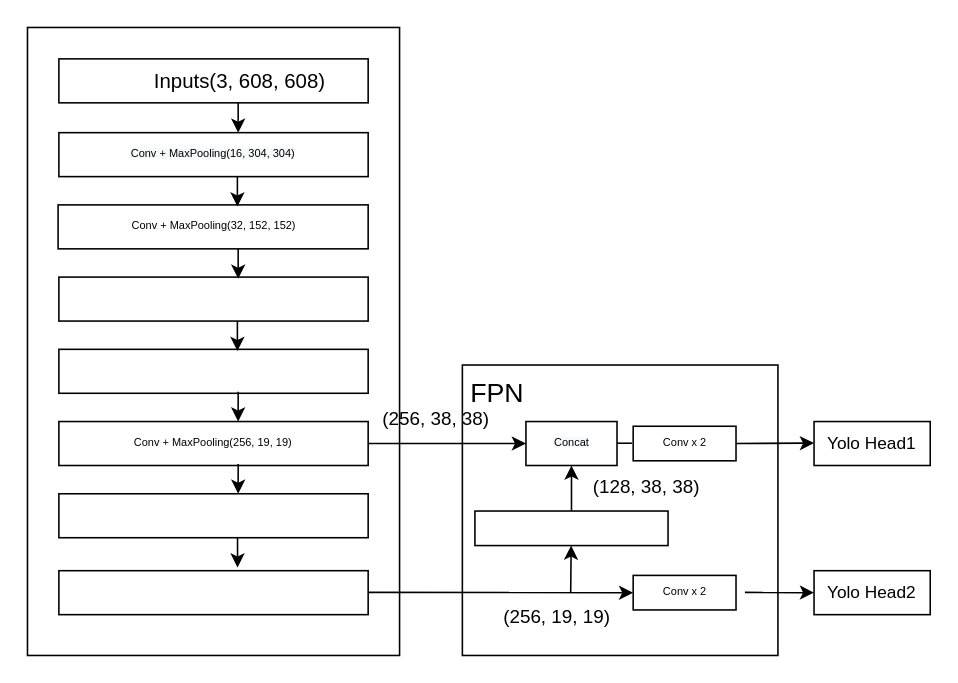
Some shapes in this 958 by 683 pixel diagram are drawn without their labels. The box of each missing label's shape, as (x1, y1, x2, y2) in pixels:
Conv + MaxPooling(128, 38, 38): (57, 348, 368, 393)
Conv + MaxPooling(512, 19, 19): (57, 492, 368, 538)
Conv + MaxPooling(64, 76, 76): (57, 276, 368, 321)
Conv + UpSampling: (473, 509, 668, 546)
Conv(1024) + Conv(256): (57, 569, 368, 615)
